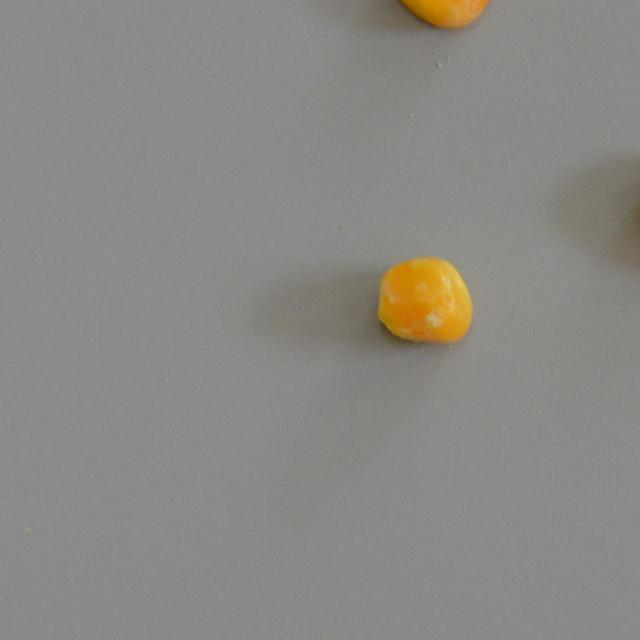dañado: (371, 255, 477, 351)
entero: (388, 0, 516, 38)
